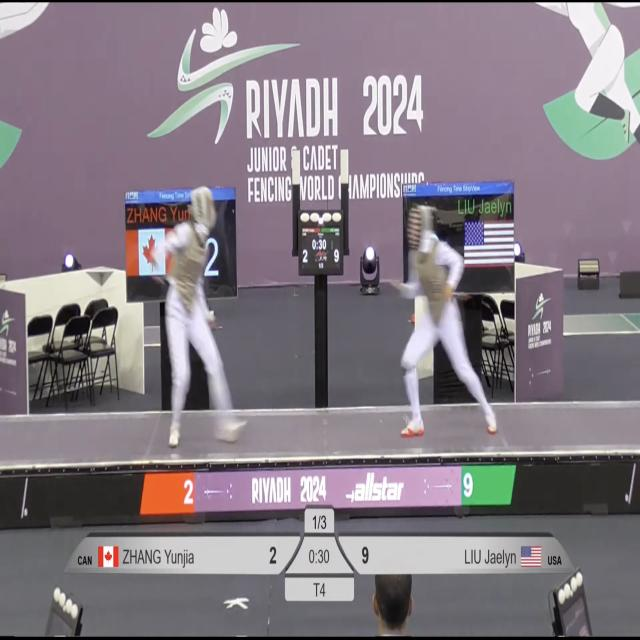fencer: (154, 179, 254, 453), (387, 198, 499, 441)
overlayLeft: (66, 531, 245, 574)
overlayRight: (391, 536, 579, 573)
scoreLeft: (251, 534, 305, 572)
scoreRight: (333, 536, 374, 573)
